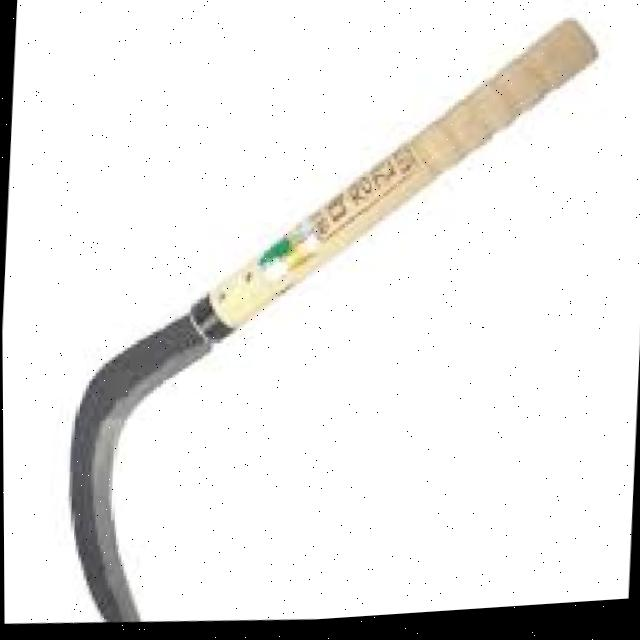sickle: (36, 0, 640, 638)
